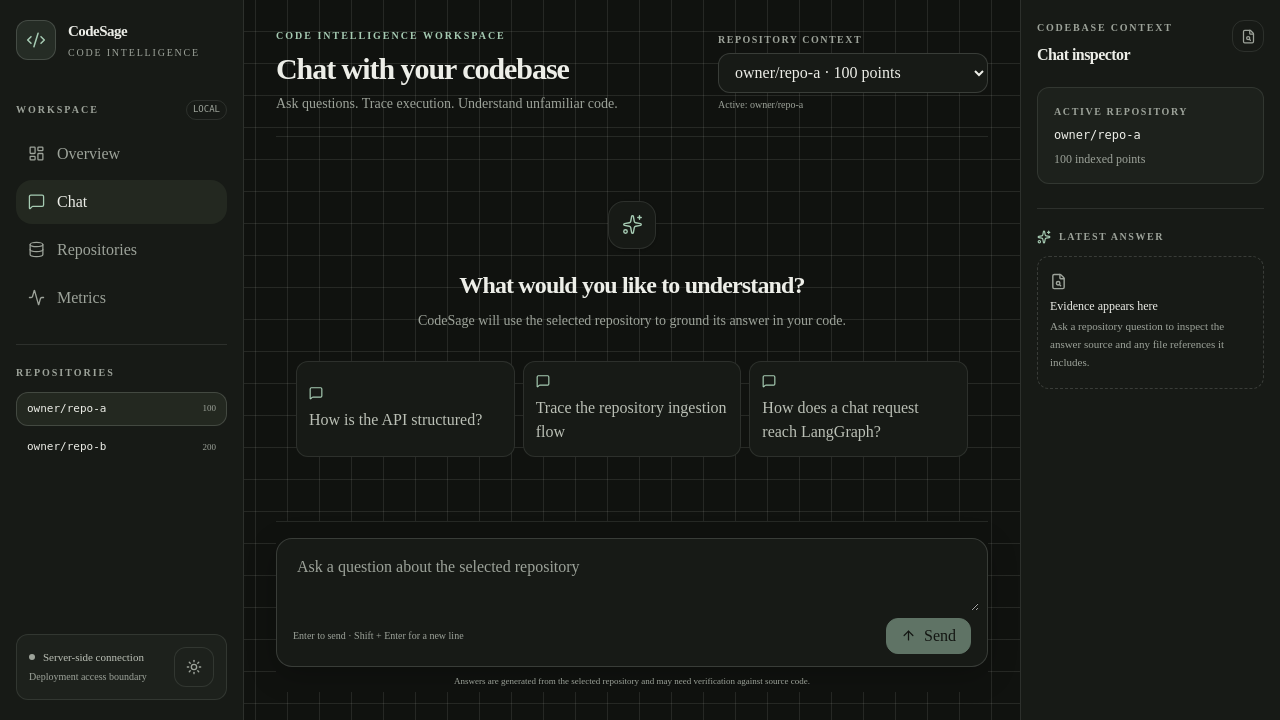
Scenario: ChatPage › Enter and Shift+Enter › submits on Enter (without Shift)
This screenshot has width=1280, height=720.
Type "Enter submit" into the text box with placeholder "Ask a question about the selected repository" at (632, 578), box x1=285 y1=546 x2=979 y2=610
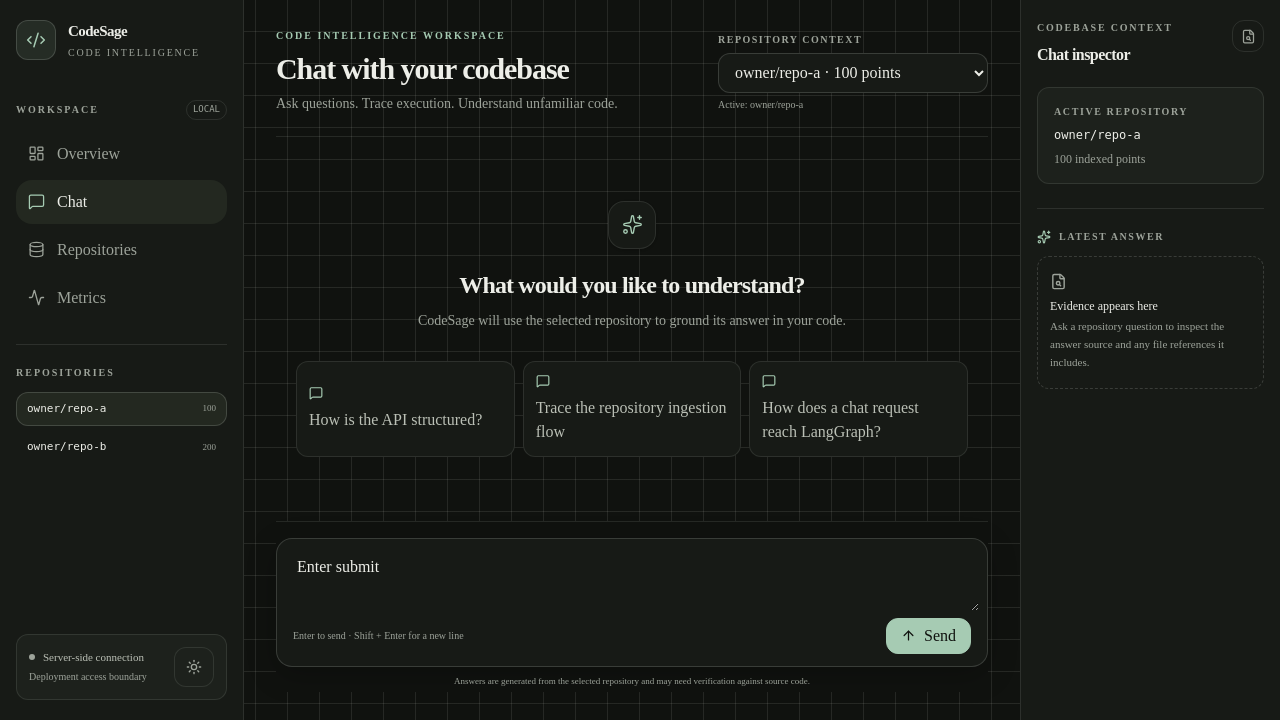
Press Enter in the text box with placeholder "Ask a question about the selected repository", box x1=285 y1=546 x2=979 y2=610
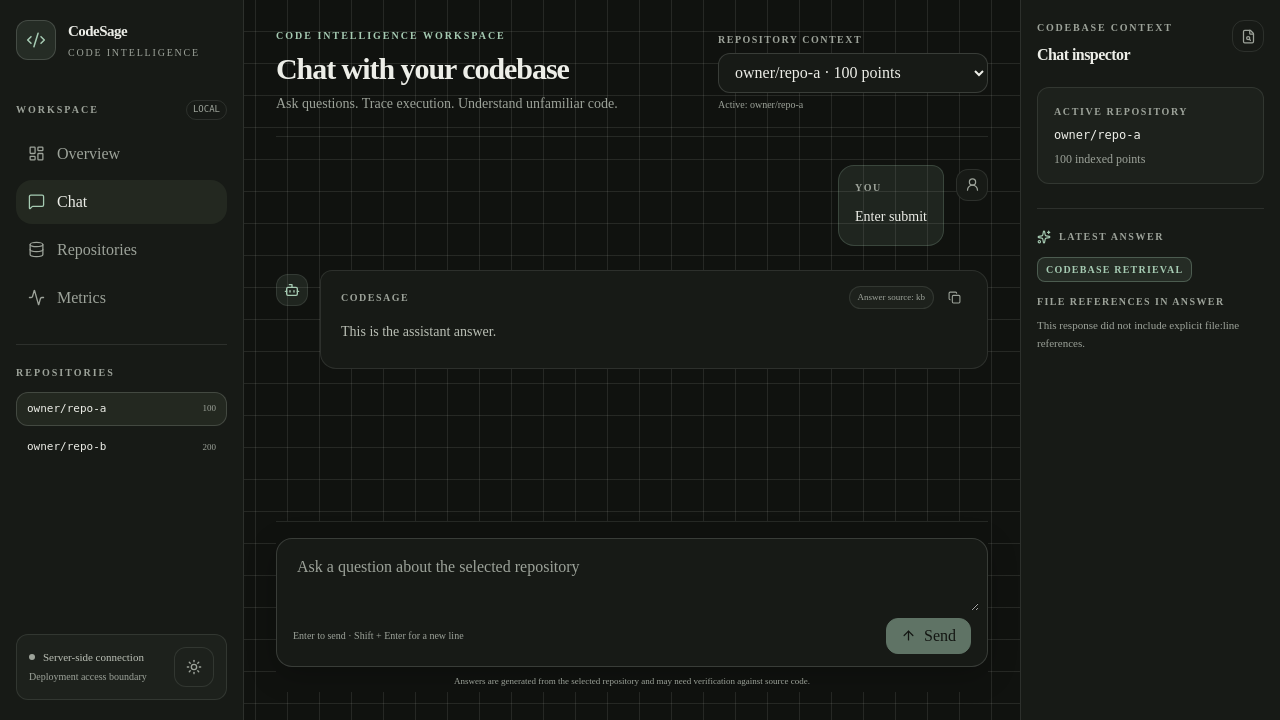
Check: the text "owner/repo-a" below "Metrics" is shown, box x1=27 y1=402 x2=106 y2=414
Check: the text "Enter submit" is shown, box x1=855 y1=209 x2=927 y2=224
